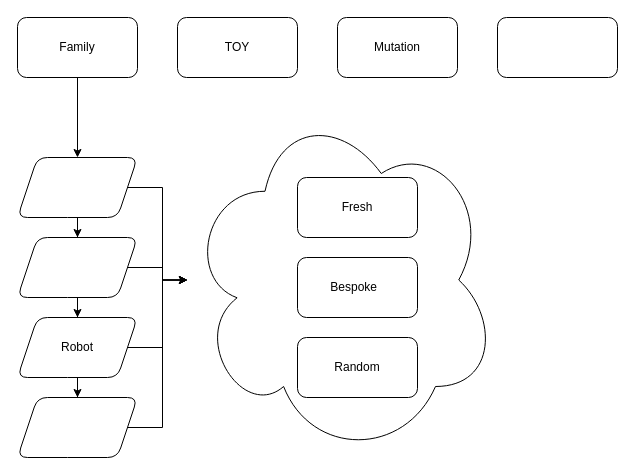
The diagram is 635 pixels wide and 475 high, and some of its shapes have lost their labels. Here are the shapes that lost their labels. From the top down, the box of each, then its label:
(16, 156, 138, 218): Anthro
(16, 236, 138, 298): Alien
(16, 396, 138, 458): AI
